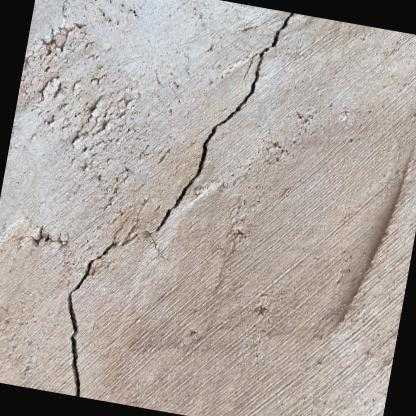crack: (67, 11, 293, 397)
